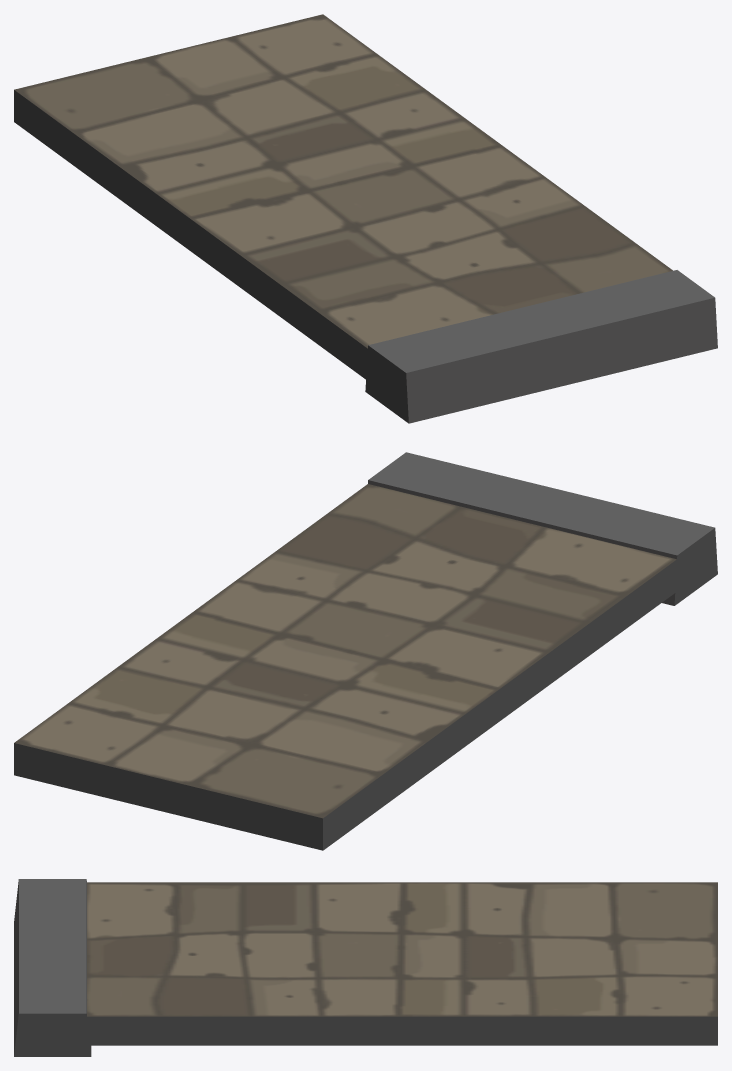
The model's file is Sidewalk_C4.fbx.
3 views of the same model, one above another, from view 1: azimuth 30°, elevation 25°; view 2: azimuth 150°, elevation 25°; view 3: azimuth 270°, elevation 25° (orthographic). The views are drawn at different scales.
Parts seen in each view (by area): view 1: Sidewalk_C4; view 2: Sidewalk_C4; view 3: Sidewalk_C4.
Part boxes in pixels (left/top/right/bottom): Sidewalk_C4: left=14, top=14, right=717, bottom=423; Sidewalk_C4: left=14, top=452, right=717, bottom=850; Sidewalk_C4: left=14, top=879, right=717, bottom=1056.
Size of the model in its own units: 200 by 30.09 by 443.
